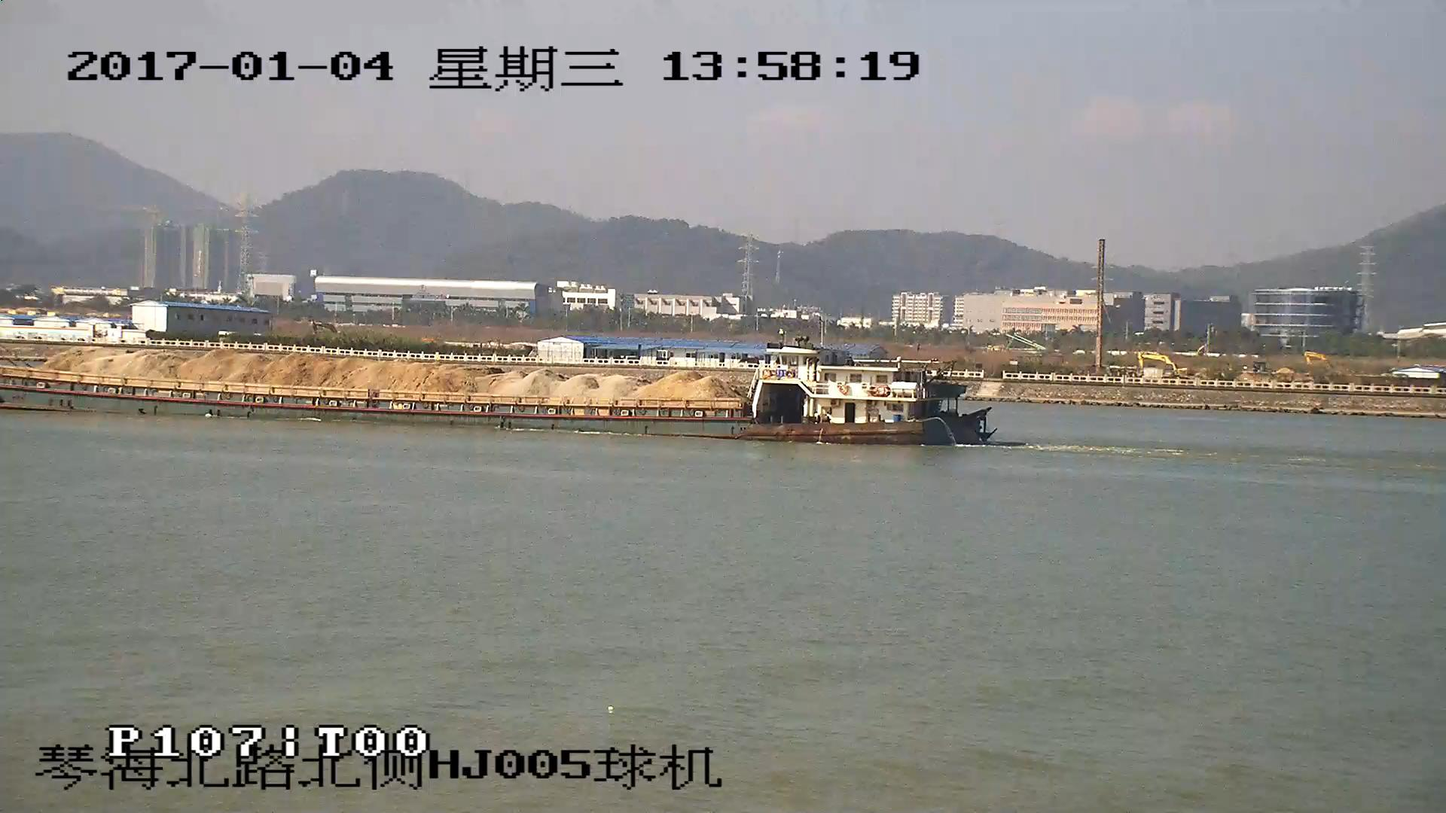ore carrier: (0, 343, 995, 449)
